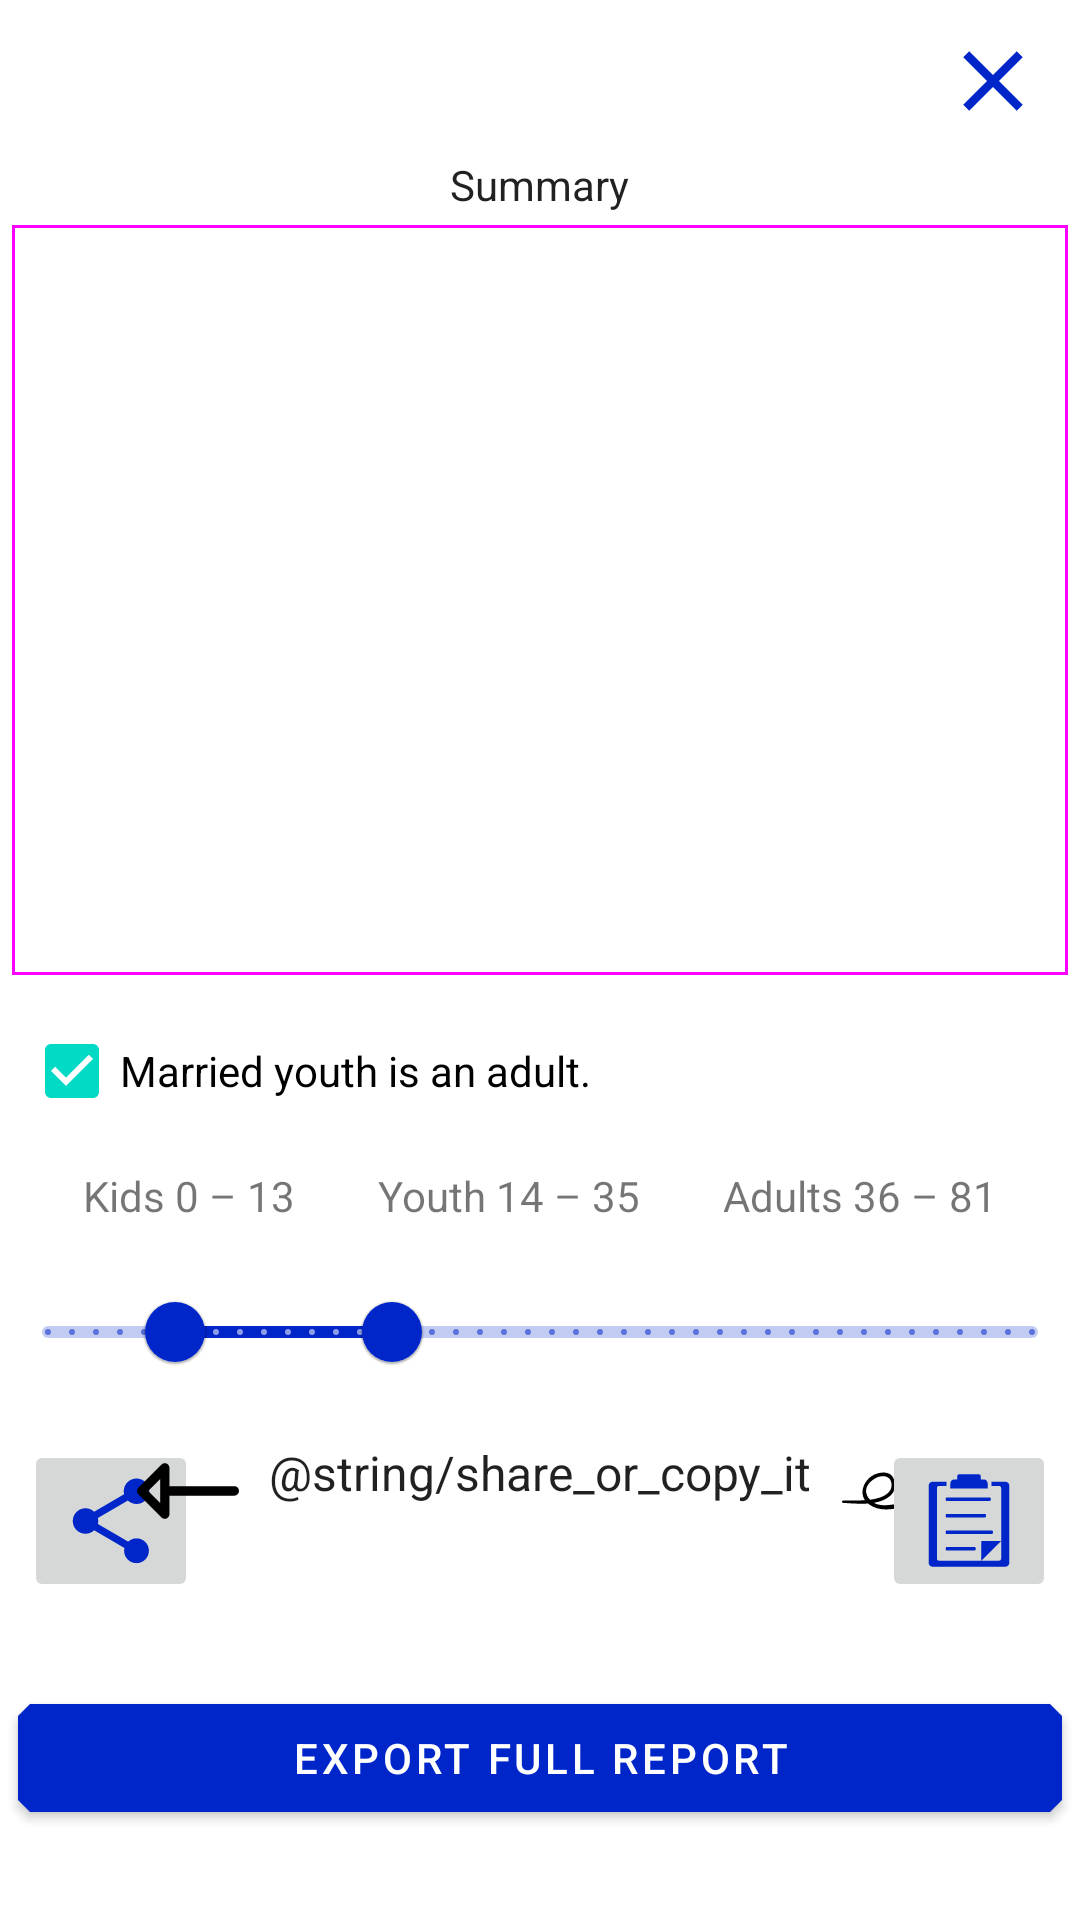

Named icons in this screenshot (1080w x 1920h) and their bounding boxes, region(x1, y1, x2, y2):
Close report summary output: region(963, 51, 1023, 111)
Copy summary to clipboard: region(882, 1458, 1044, 1584)
